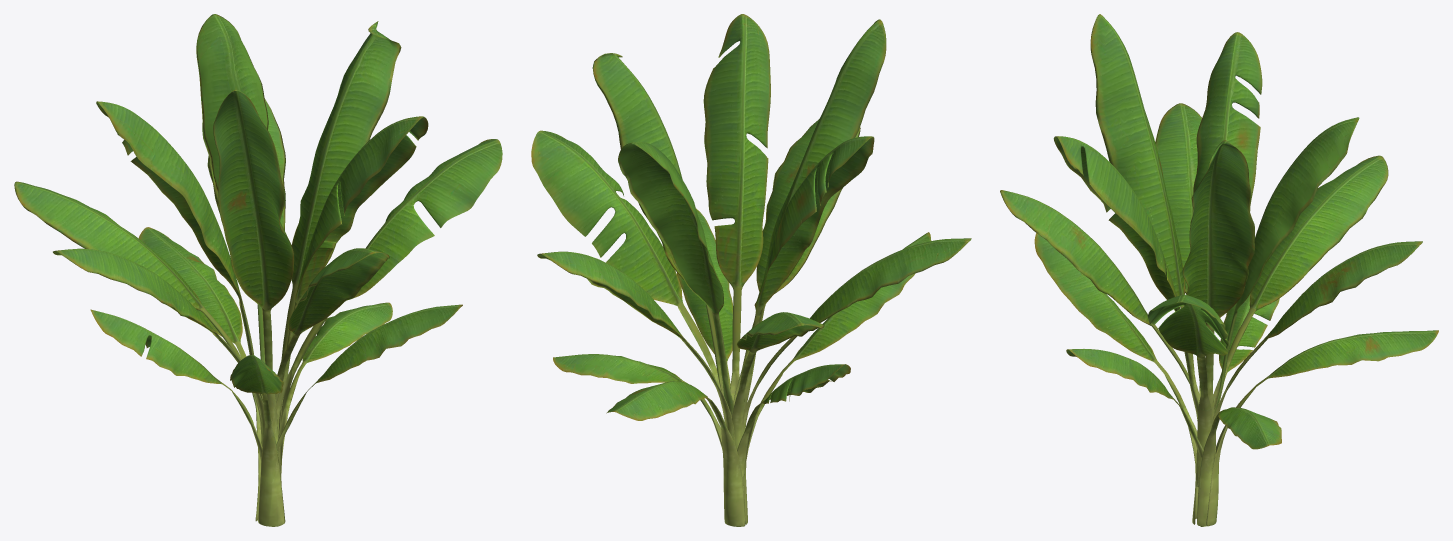
File: banana_tree.glb
3 views of the same model, side by side, from view 1: azimuth 30°, elevation 25°; view 2: azimuth 150°, elevation 25°; view 3: azimuth 270°, elevation 25° (orthographic). The views are drawn at different scales.
Parts seen in each view (by area): view 1: Object_4; view 2: Object_4; view 3: Object_4.
Part boxes in pixels (x1,y1,x2,y2): Object_4: [14, 14, 502, 526]; Object_4: [531, 14, 971, 526]; Object_4: [1000, 14, 1438, 526].
Size of the model in its own units: 24.29 by 26.16 by 22.21.
Materials: 1 (1 with a texture image).
